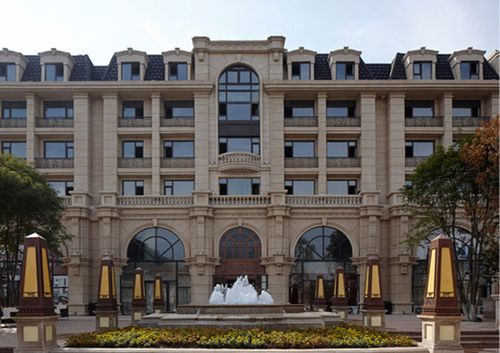buildings: (5, 36, 484, 322)
